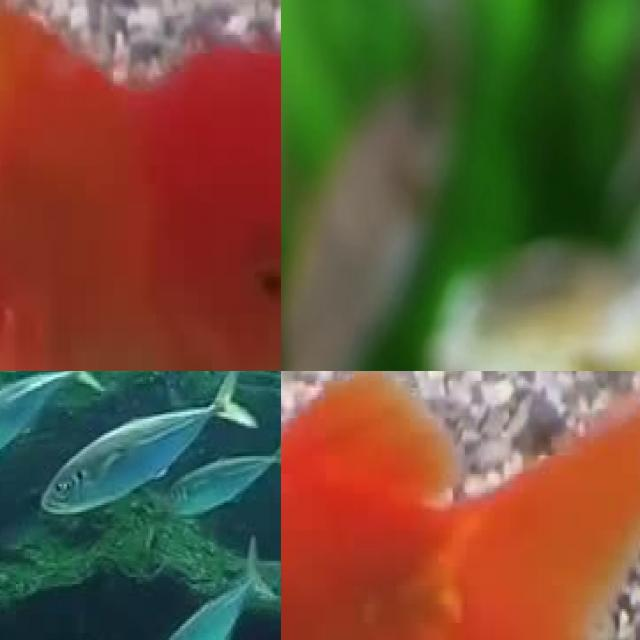fish: (0, 0, 281, 371), (281, 371, 640, 640)
